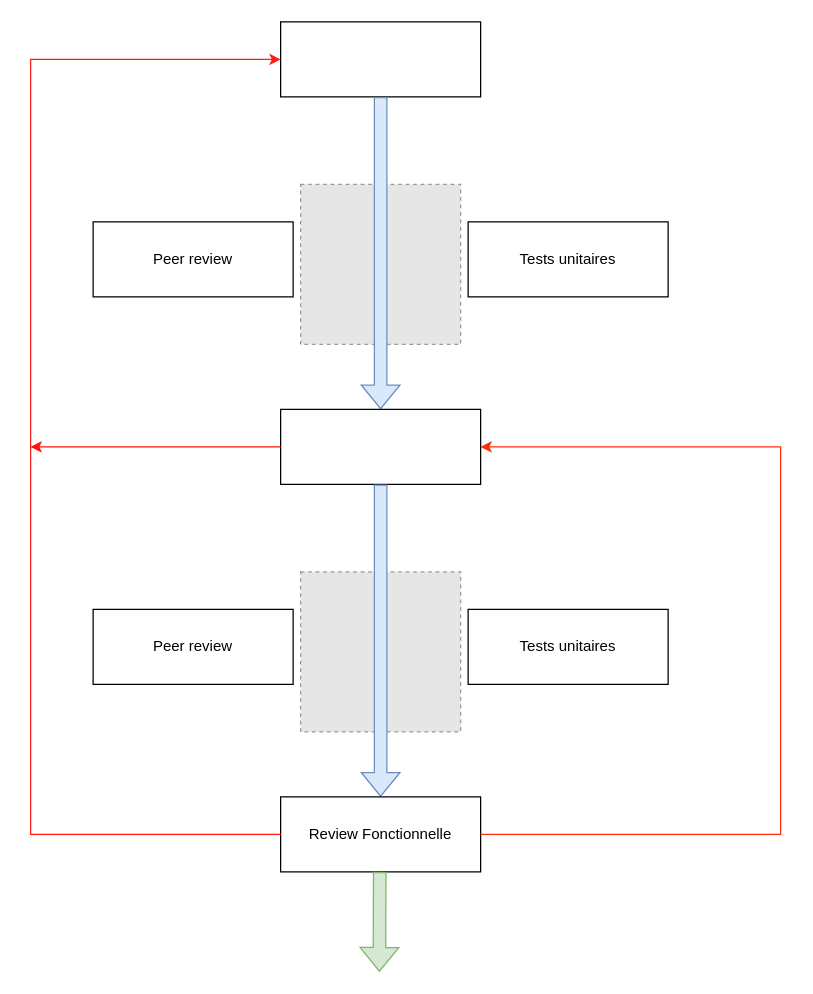
Image size: 813x994. Some labels were removed from this diagram. Grey dashed boxes stand in for pictures. The shapes that lost their labels are listed below. From the top down, each one's centre as x and y in pixels, then its label:
point 380,59: Développement Backend
point 380,446: Développement Frontend
